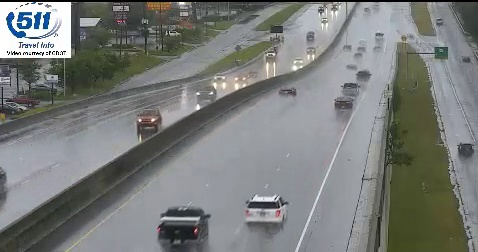car: (158, 207, 208, 246), (246, 196, 287, 223), (334, 96, 353, 111), (342, 82, 359, 96)
